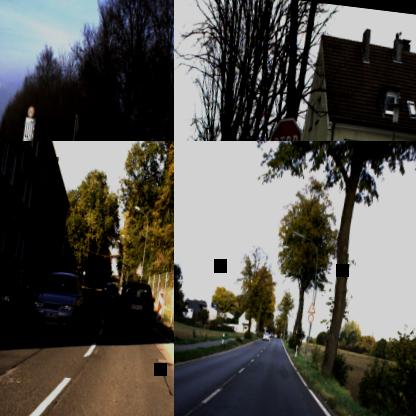SCHOOL CROSSING: (307, 301, 316, 313)
STOP: (265, 114, 305, 141)
speed limit 50: (306, 312, 314, 322)
speed limit 80: (26, 106, 35, 118)
traffic signal: (134, 262, 144, 276)
